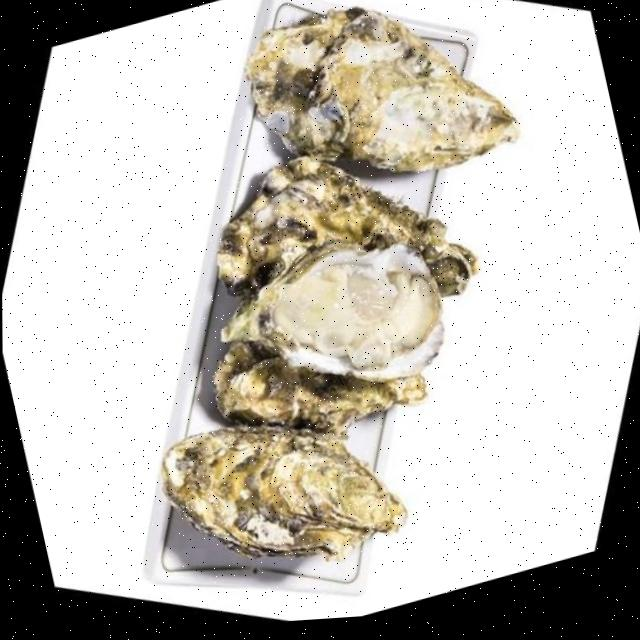Oyster-Indeterminate: (236, 0, 545, 188), (198, 148, 501, 311), (148, 409, 416, 569), (199, 326, 437, 439)
Oyster-Open: (203, 216, 462, 389)
